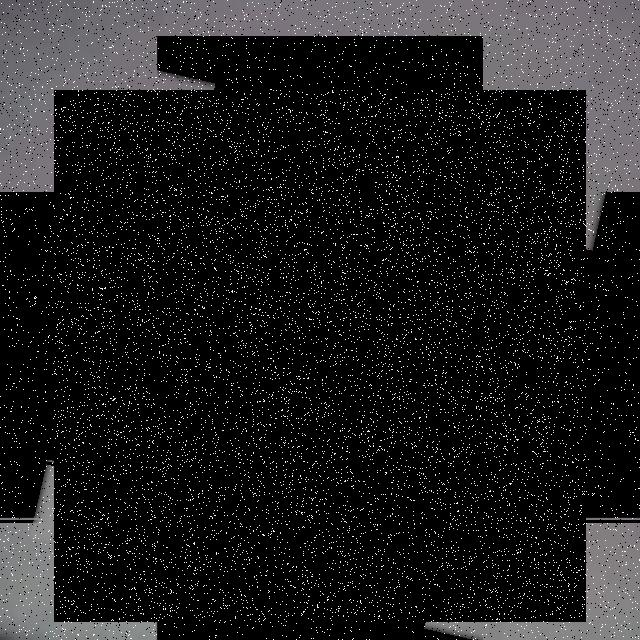dua ribu rupiah: (54, 90, 586, 622)
